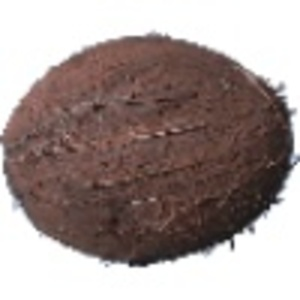coco: (1, 35, 300, 267)
